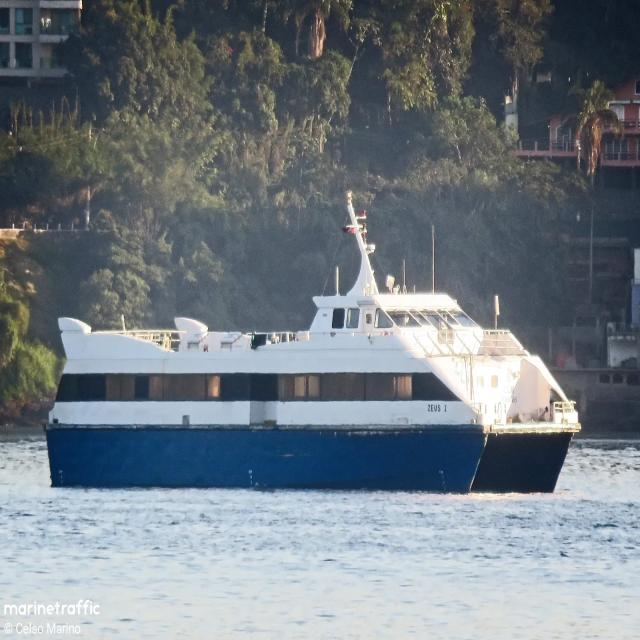Passenger: (46, 193, 580, 492)
